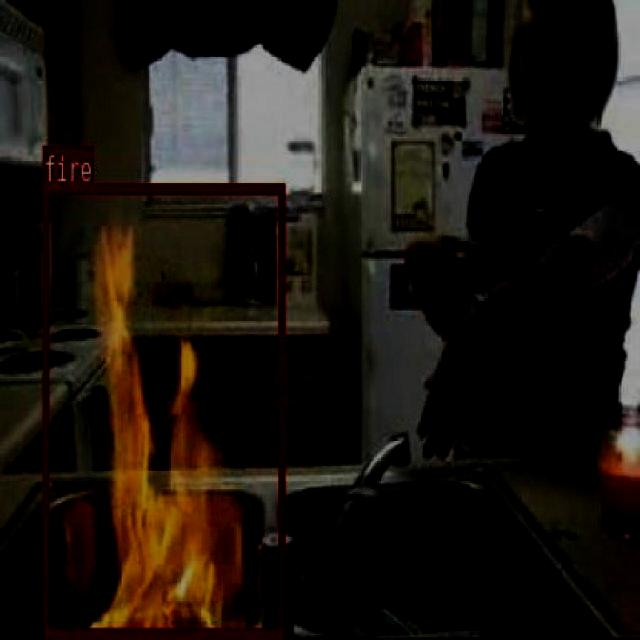fire: (42, 182, 284, 636)
